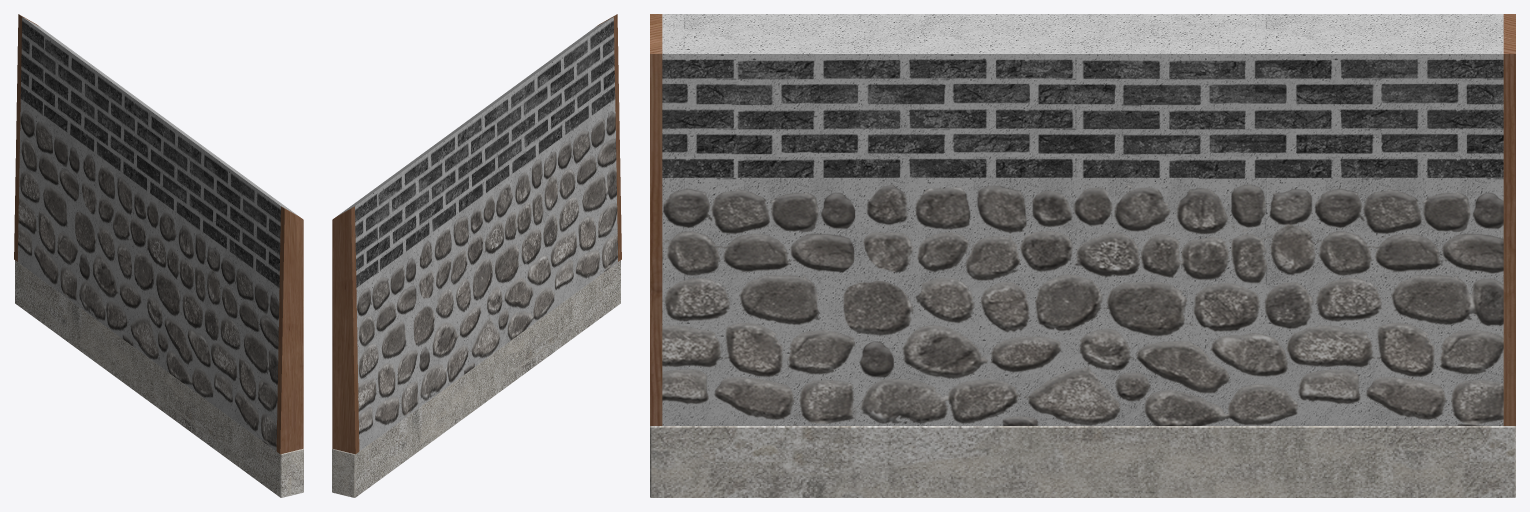
File: SM_Baeryeom_Wall_C6.fbx
The picture shows the model from 3 angles, left to right: view 1: azimuth 30°, elevation 25°; view 2: azimuth 150°, elevation 25°; view 3: azimuth 270°, elevation 25°; orthographic projection. The views are drawn at different scales.
Visible parts, largest first — view 1: SM_Baeryeom_Wall_C6; view 2: SM_Baeryeom_Wall_C6; view 3: SM_Baeryeom_Wall_C6.
Part boxes in pixels (x1=…): SM_Baeryeom_Wall_C6: x1=14, y1=14, x2=303, y2=497; SM_Baeryeom_Wall_C6: x1=332, y1=14, x2=621, y2=497; SM_Baeryeom_Wall_C6: x1=650, y1=14, x2=1515, y2=497.
Bounding box in the file's own units: 11 × 126 × 212.
